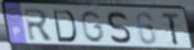6: (135, 11, 158, 46)
D: (51, 8, 78, 44)
G: (79, 10, 106, 45)
R: (22, 8, 55, 42)
S: (106, 11, 133, 46)
T: (160, 11, 181, 47)
